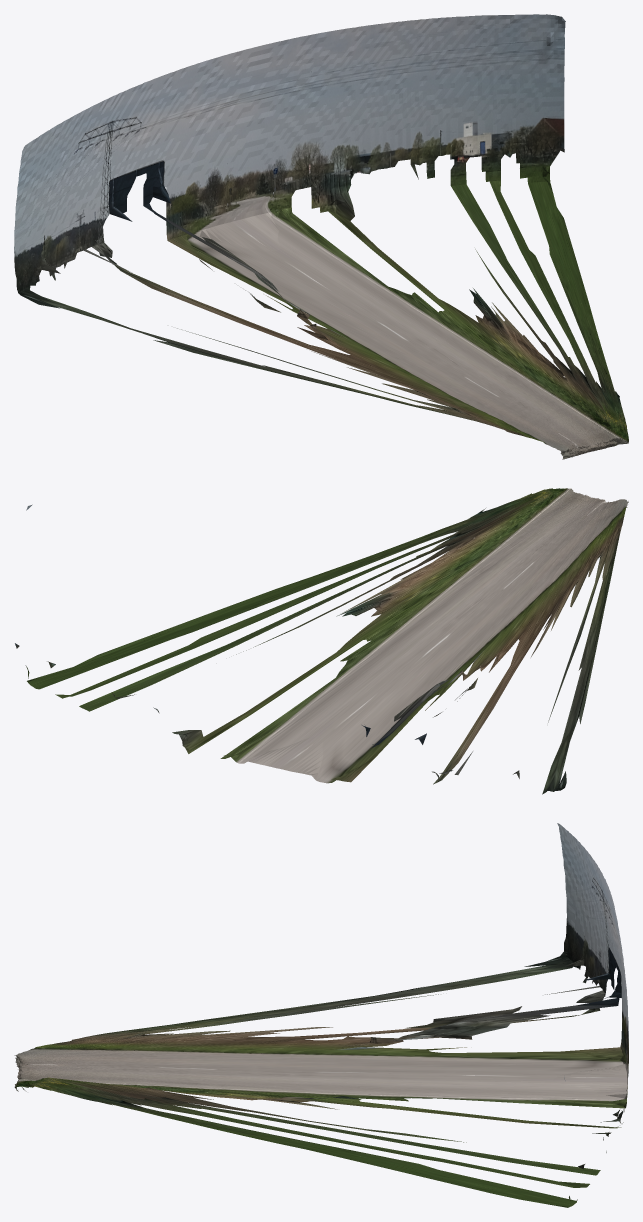
The picture shows the model from 3 angles, top to bottom: view 1: azimuth 30°, elevation 25°; view 2: azimuth 150°, elevation 25°; view 3: azimuth 270°, elevation 25°; orthographic projection. The views are drawn at different scales.
Visible parts, largest first — view 1: defaultobject; view 2: defaultobject; view 3: defaultobject.
Part boxes in pixels (box(x1,y1,x2,y2)): defaultobject: box(14, 14, 628, 459); defaultobject: box(15, 488, 628, 794); defaultobject: box(14, 823, 628, 1207).
Size of the model in its own units: 41.16 by 13.21 by 44.38.
Materials: 1 (1 with a texture image).
